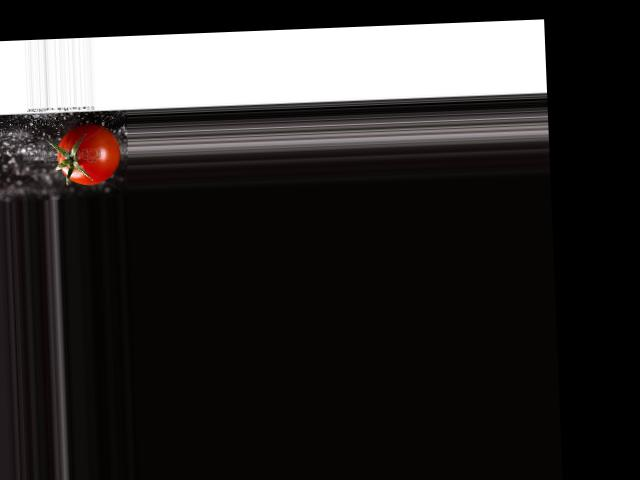tomato: (55, 123, 120, 186)
